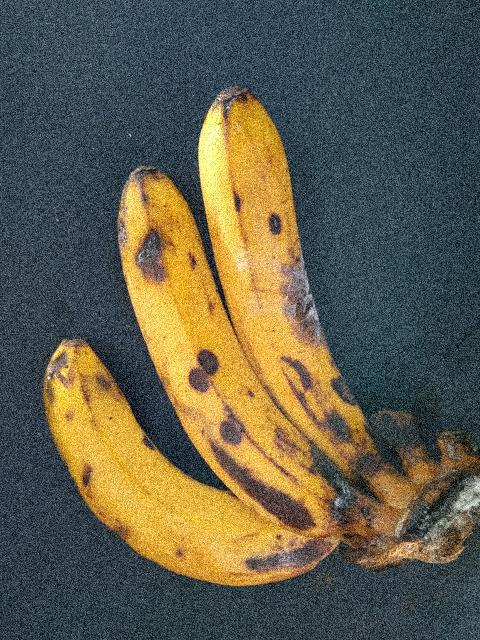overripe: (111, 142, 355, 566), (15, 321, 358, 600), (191, 78, 394, 489)
rotten: (256, 218, 372, 400)
